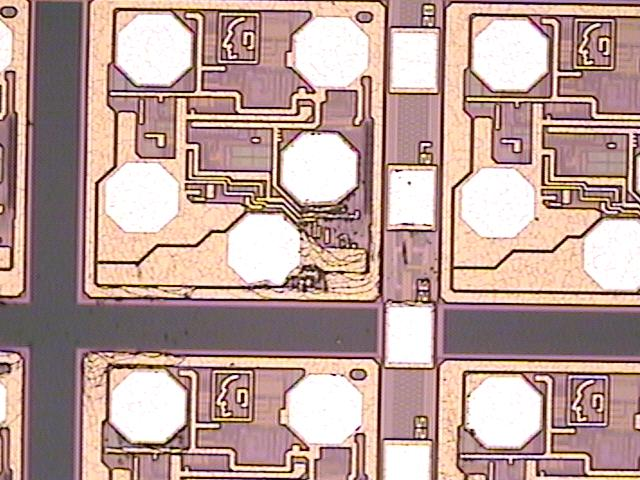SCRATCH: (1, 193, 387, 480)
